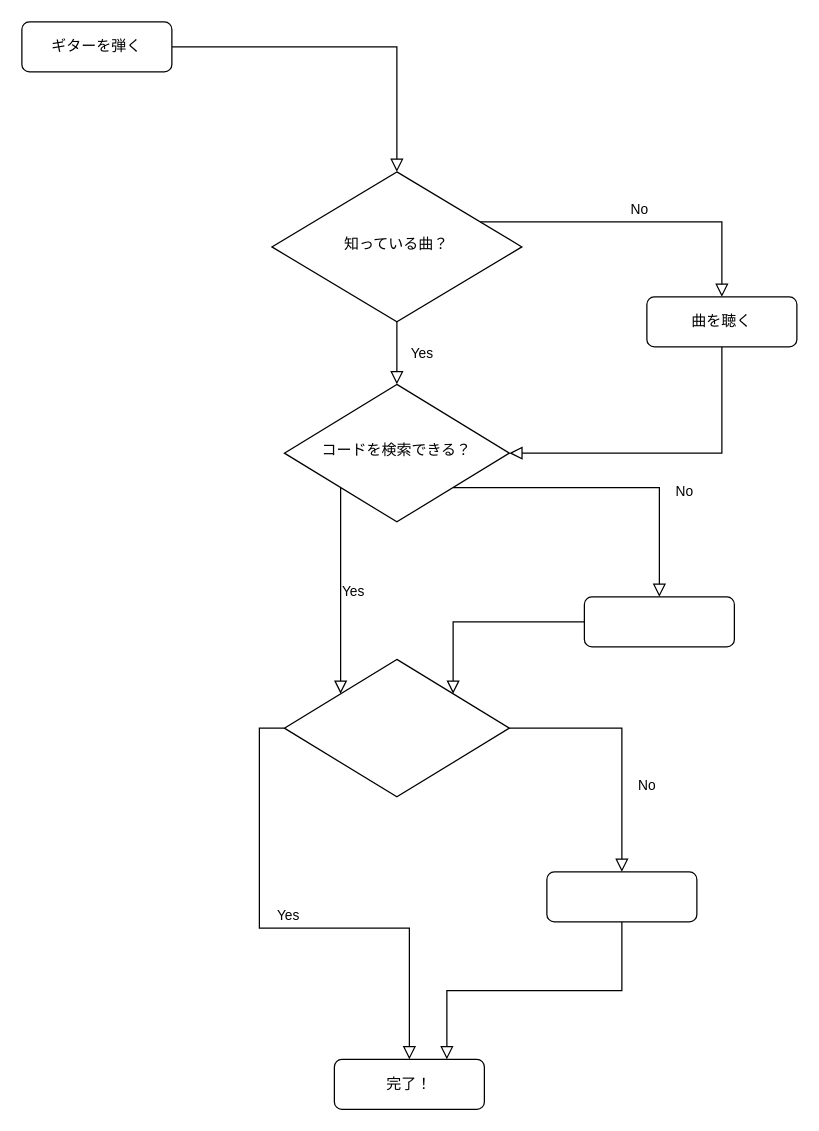
Image size: 819x1131. Some labels were removed from this diagram. Each missing label, with the box of its shape:
コードを音から探す (アプリから): (583, 596, 734, 647)
弾ける？: (283, 658, 509, 797)
練習 (テンポを落として): (546, 871, 697, 922)
